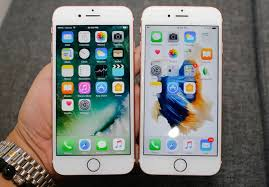iphone: (47, 4, 137, 179), (136, 4, 226, 179)
iphone7: (136, 7, 226, 182), (49, 2, 139, 177)
